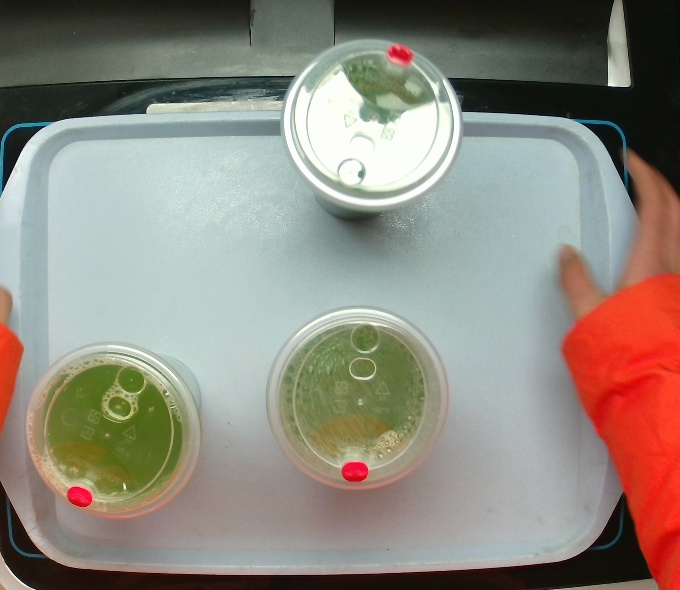wcq-HuangGuaZhi: (263, 304, 452, 493), (277, 35, 464, 224), (24, 338, 204, 522)
